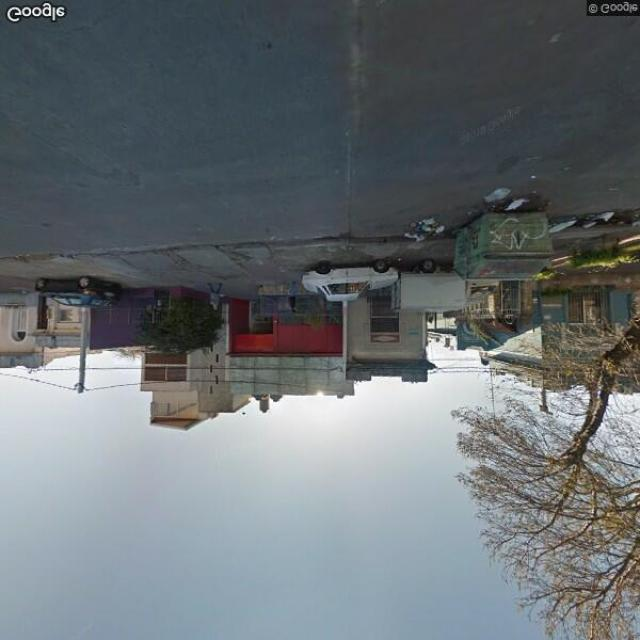garbage container: (442, 198, 572, 294)
